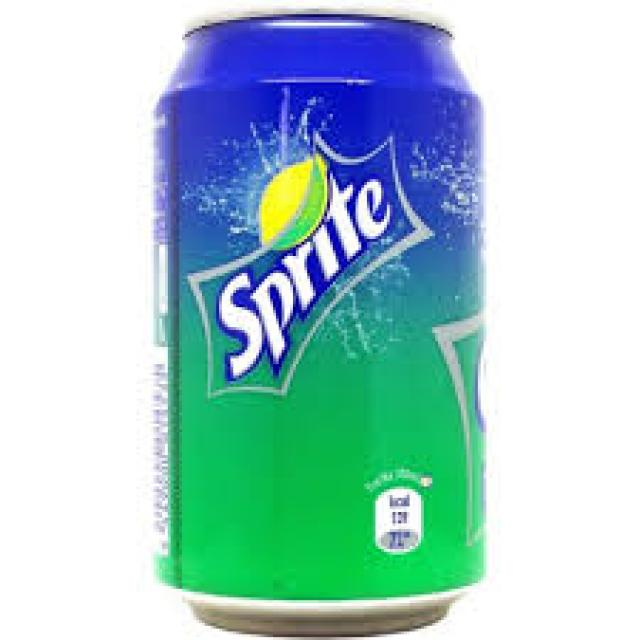aluminum_can: (156, 14, 486, 636)
